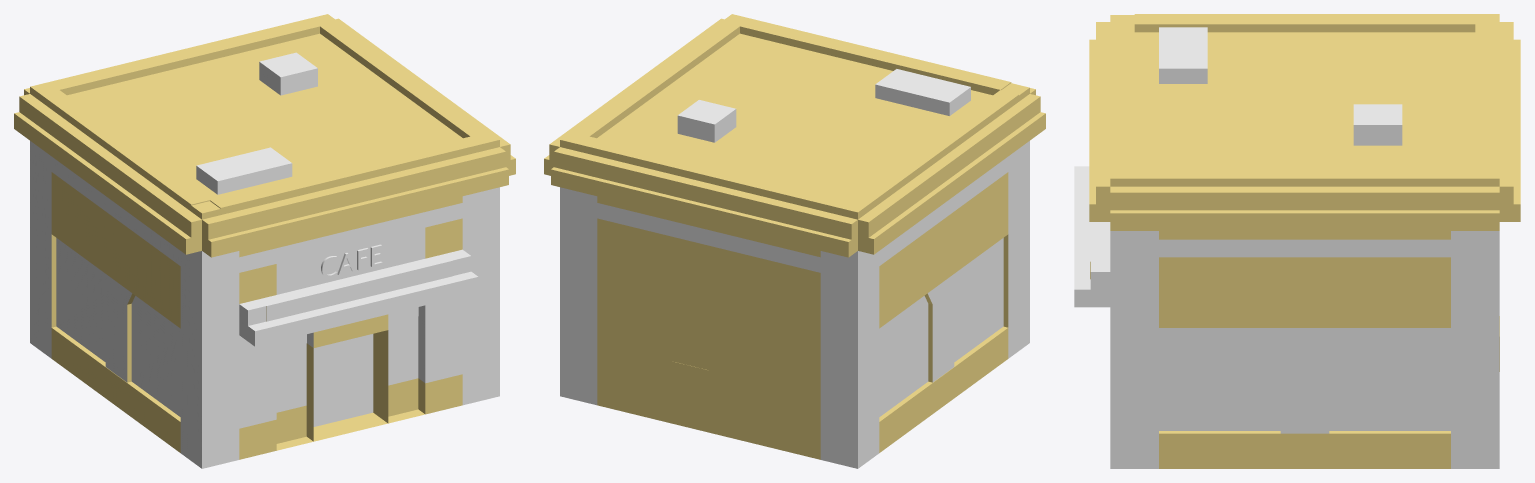
Rendered from cafe.fbx.
The picture shows the model from 3 angles, left to right: view 1: azimuth 30°, elevation 25°; view 2: azimuth 150°, elevation 25°; view 3: azimuth 270°, elevation 25°; orthographic projection. The views are drawn at different scales.
Visible parts, largest first — view 1: Cafe.001, sign; view 2: Cafe.001; view 3: Cafe.001.
Part boxes in pixels (x1=…): Cafe.001: x1=14, y1=14, x2=515, y2=468; sign: x1=321, y1=244, x2=382, y2=277; Cafe.001: x1=544, y1=14, x2=1045, y2=468; Cafe.001: x1=1074, y1=14, x2=1520, y2=468.
Bounding box in the file's own units: 1108 × 859 × 1146.
